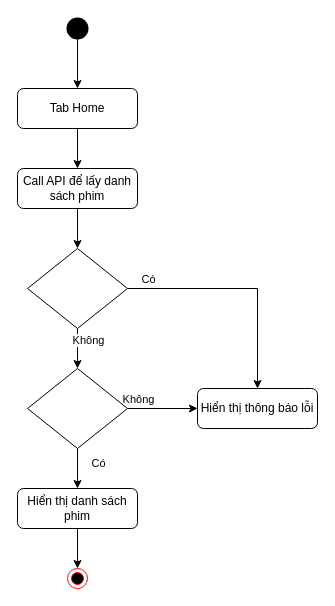
The diagram is 335 pixels wide and 606 high, and some of its shapes have lost their labels. Here are the shapes that lost their labels. From the top down, the centre of each, then its label:
At pixel 77 288: "Có lỗi?".
At pixel 77 408: "Có phim?".
